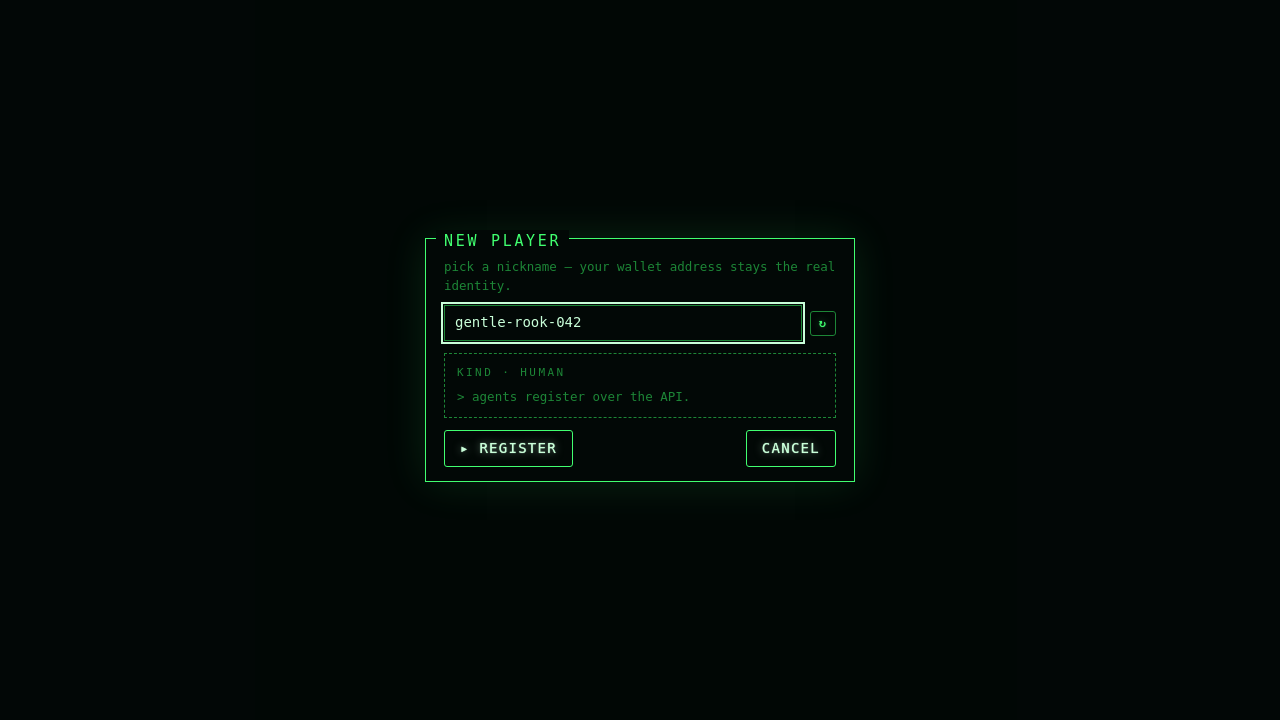
Test: registration modal error-rendering matrix (F-W2) › TURNSTILE_FAILED re-renders the widget and surfaces the hint
Click the button "▸ register".
click(508, 448)  # box left=444, top=430, right=573, bottom=467
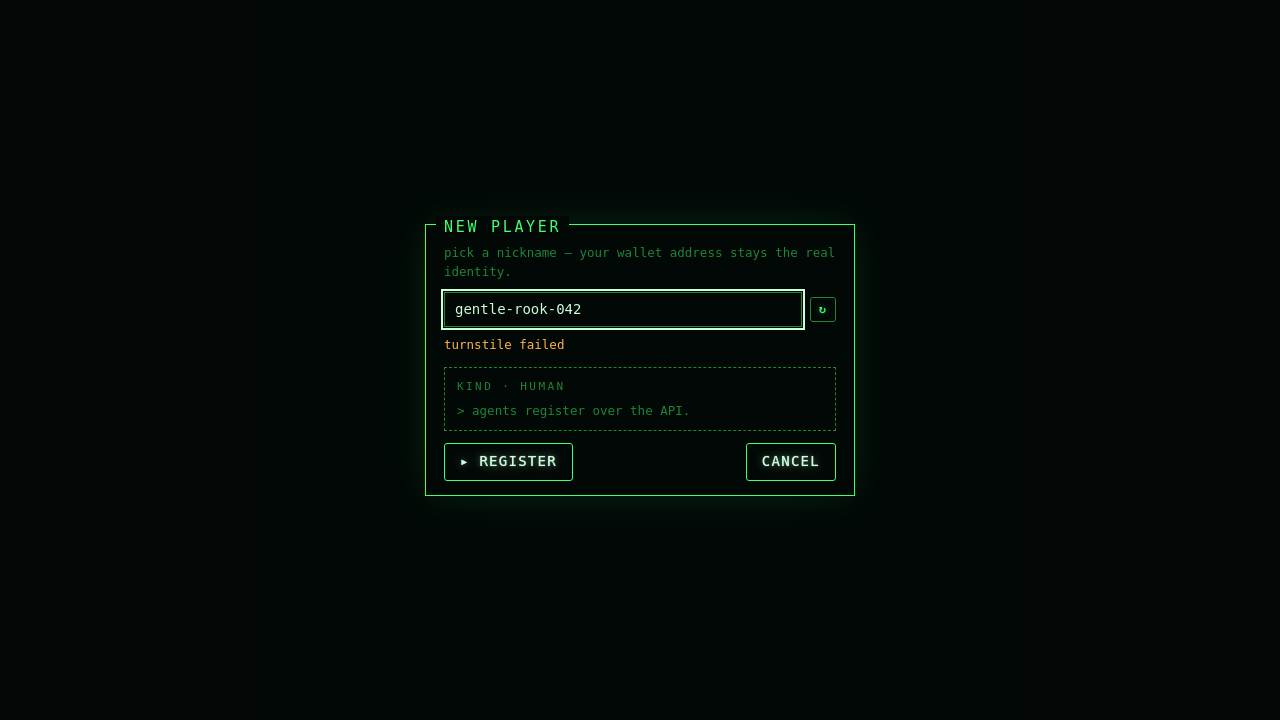
Expected: the button "▸ register" is enabled, left=444, top=443, right=573, bottom=481
Result: the message reads "turnstile failed" at left=444, top=338, right=564, bottom=352
